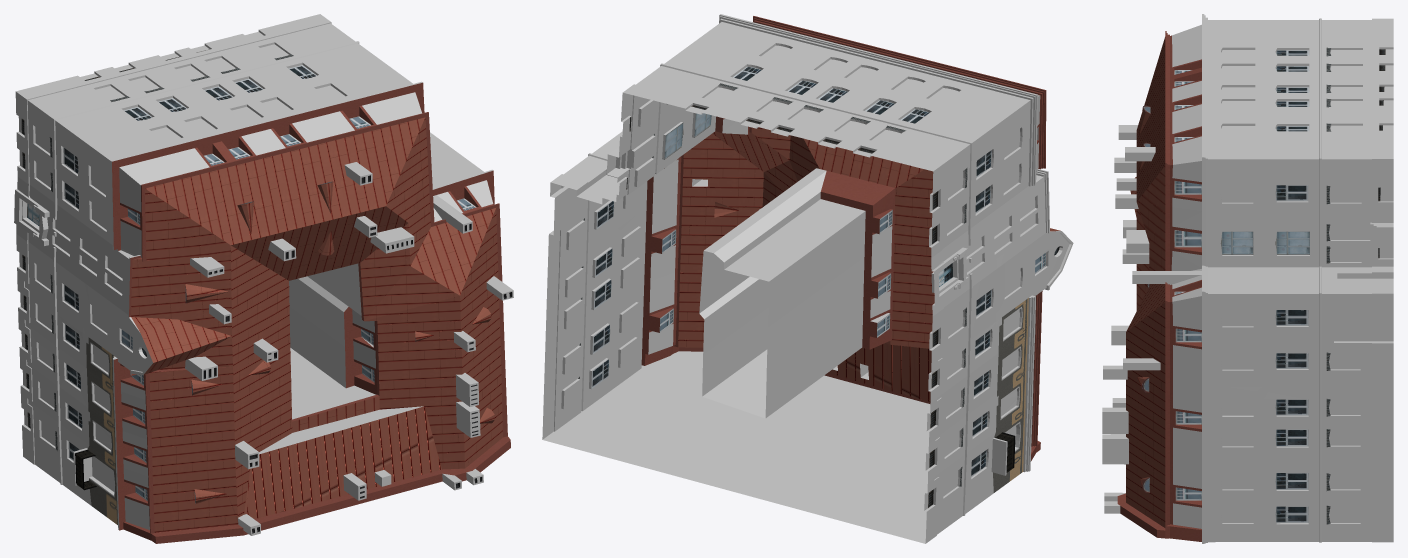
Rendered from Uus_24.obj.
3 renders of one model, left to right at view 1: azimuth 30°, elevation 25°; view 2: azimuth 150°, elevation 25°; view 3: azimuth 270°, elevation 25°, orthographic. The views are drawn at different scales.
Visible parts, largest first — view 1: Uus_24; view 2: Uus_24; view 3: Uus_24.
Boxes of the visible parts, <box> form: Uus_24: <box>14,14,513,543</box>; Uus_24: <box>542,14,1073,543</box>; Uus_24: <box>1102,14,1393,543</box>.
Bounding box in the file's own units: 29.02 × 26.33 × 19.33.
